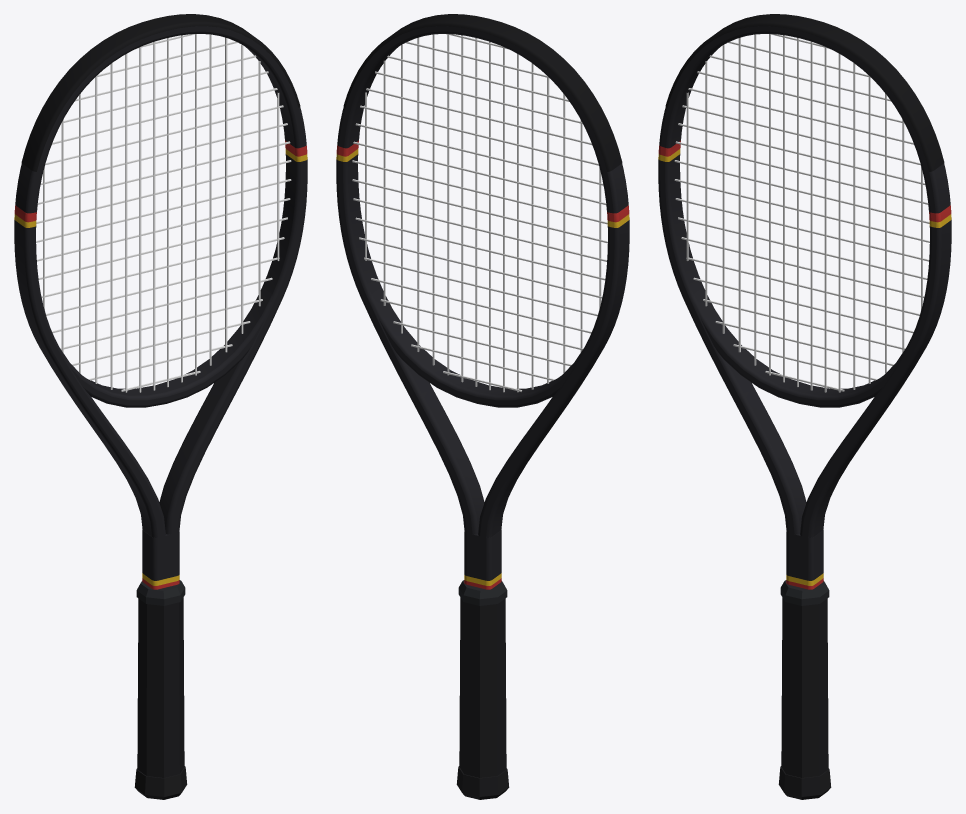
The model's file is wilson-pro-staff-97-classic.glb.
3 views of the same model, side by side, from view 1: azimuth 30°, elevation 25°; view 2: azimuth 150°, elevation 25°; view 3: azimuth 330°, elevation 25° (orthographic).
Parts seen in each view (by area): view 1: frame, strings_mains, strings_crosses, grip, bumper, butt_cap, collar; view 2: frame, strings_mains, strings_crosses, grip, bumper, butt_cap, collar; view 3: frame, strings_mains, strings_crosses, grip, bumper, butt_cap, collar.
Boxes of the visible parts, bbox=[...] form: frame: bbox=[14, 26, 307, 589]; strings_mains: bbox=[43, 34, 279, 392]; strings_crosses: bbox=[36, 34, 291, 391]; grip: bbox=[137, 597, 184, 777]; bumper: bbox=[21, 14, 300, 171]; butt_cap: bbox=[134, 766, 187, 799]; collar: bbox=[136, 580, 185, 605]; frame: bbox=[336, 26, 629, 589]; strings_mains: bbox=[365, 34, 601, 392]; strings_crosses: bbox=[352, 34, 607, 391]; grip: bbox=[459, 597, 506, 777]; bumper: bbox=[343, 14, 622, 171]; butt_cap: bbox=[456, 766, 509, 799]; collar: bbox=[458, 580, 507, 605]; frame: bbox=[658, 26, 951, 589]; strings_mains: bbox=[686, 34, 922, 392]; strings_crosses: bbox=[674, 34, 929, 391]; grip: bbox=[781, 597, 828, 777]; bumper: bbox=[665, 14, 944, 171]; butt_cap: bbox=[778, 766, 831, 799]; collar: bbox=[780, 580, 829, 605].
Size of the model in its own units: 0.2649 by 0.6861 by 0.0396.
